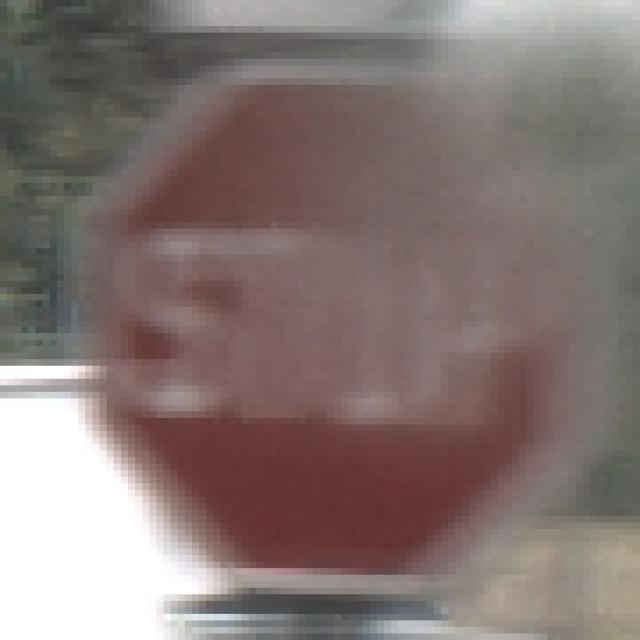STOP: (58, 60, 584, 589)
